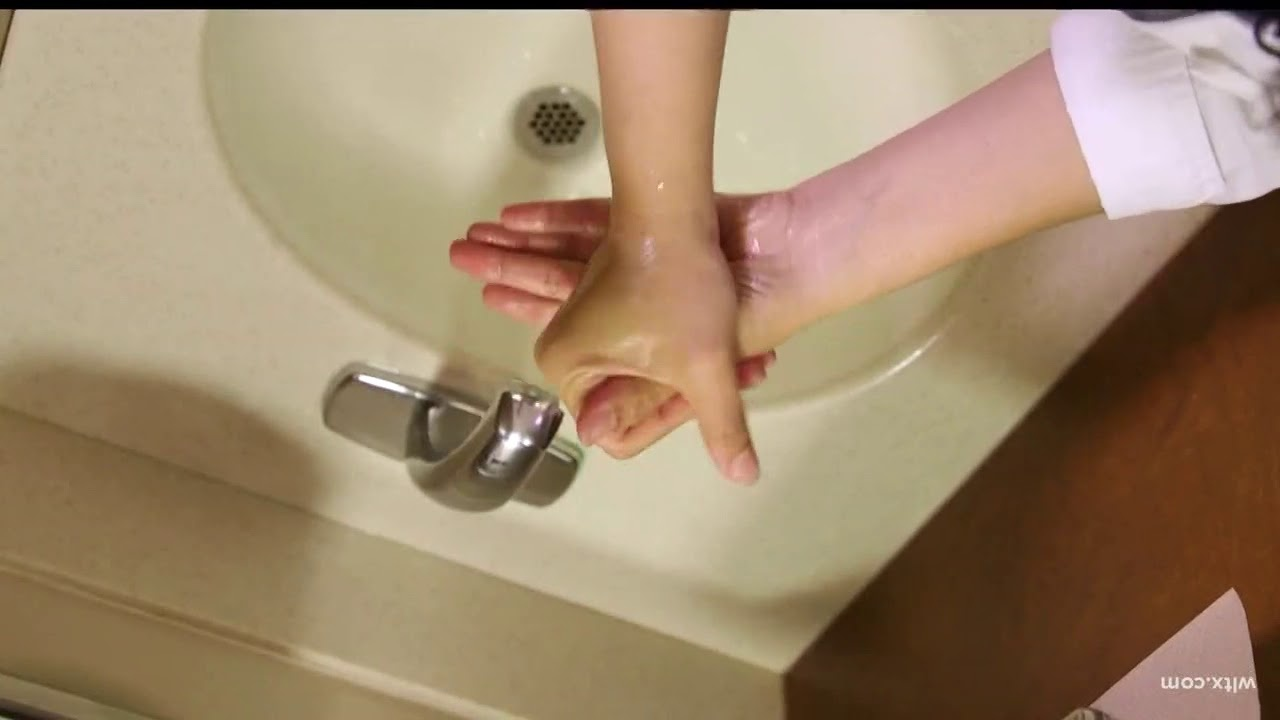washing hand: (278, 81, 788, 569)
